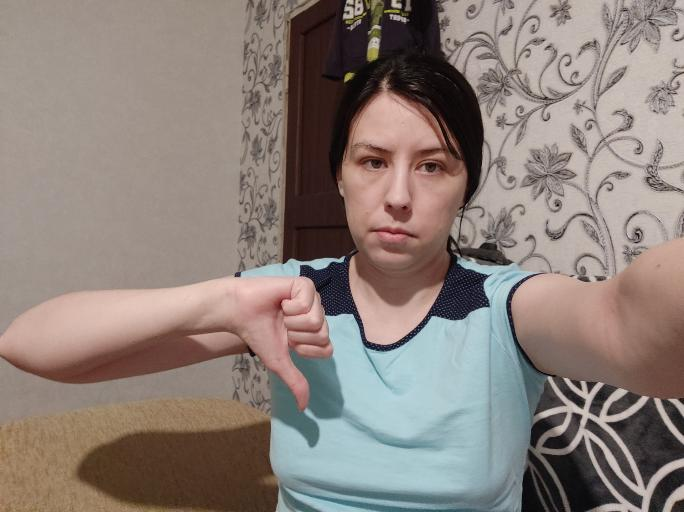dislike: (230, 269, 335, 414)
